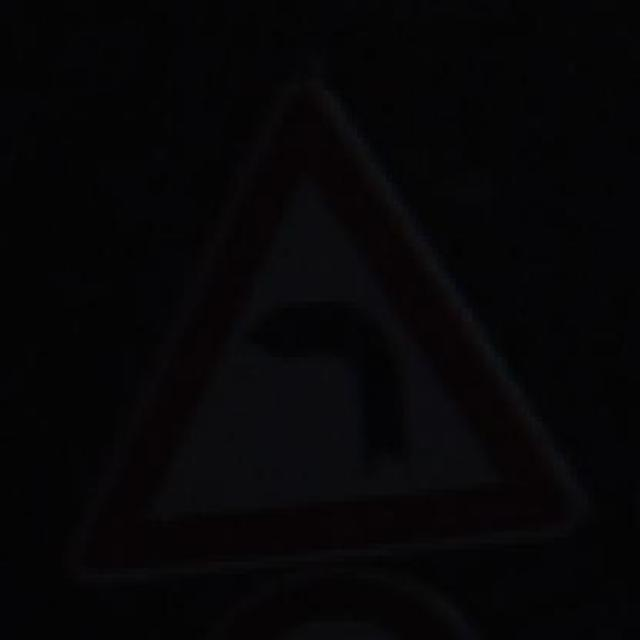Dangerous Left Curve Ahead: (46, 72, 600, 598)
